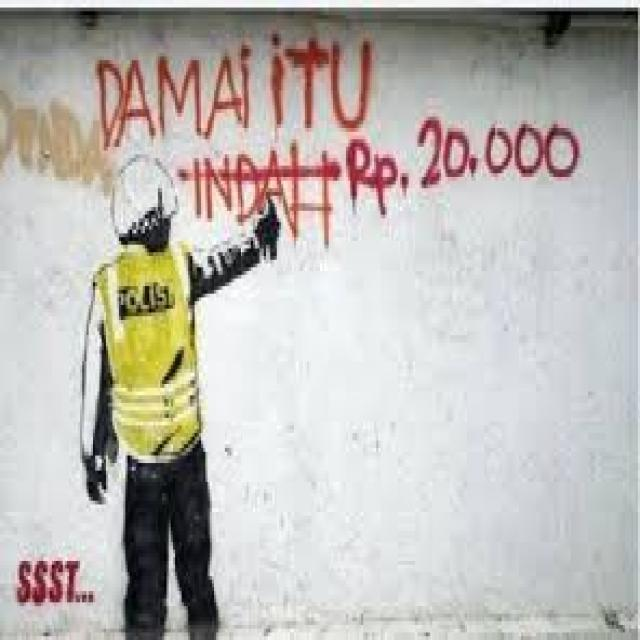-: (75, 38, 584, 640), (18, 554, 94, 606)
